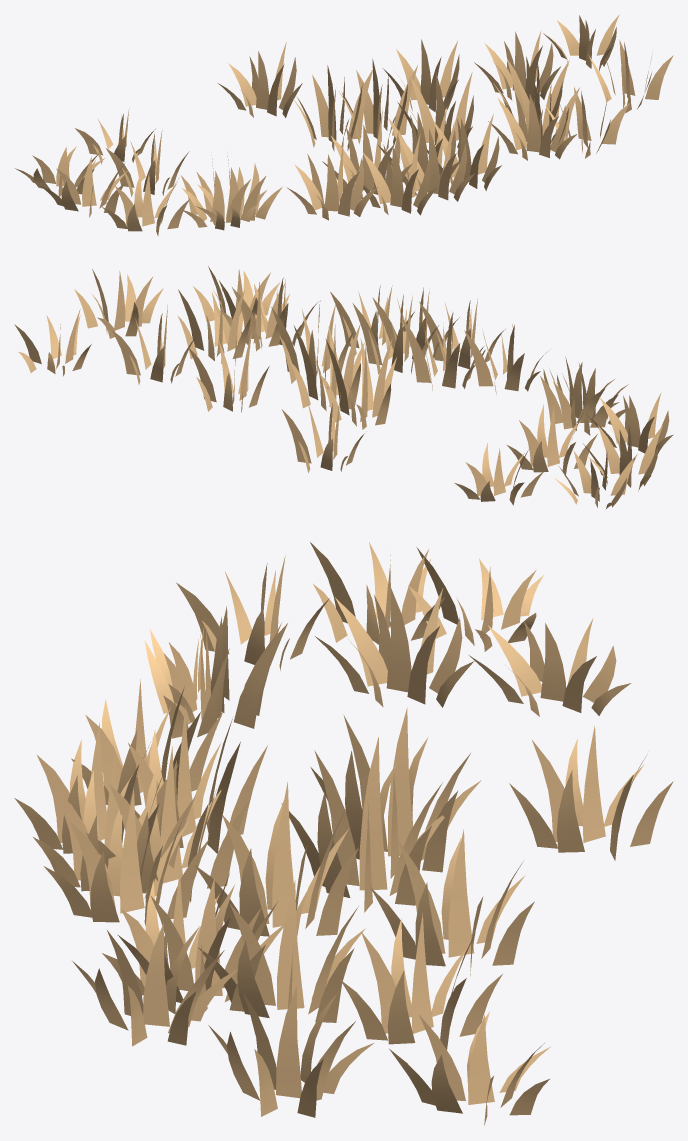
Rendered from Grass_5.fbx.
3 views of the same model, one above another, from view 1: azimuth 30°, elevation 25°; view 2: azimuth 150°, elevation 25°; view 3: azimuth 270°, elevation 25° (orthographic). The views are drawn at different scales.
Parts seen in each view (by area): view 1: Grass_5; view 2: Grass_5; view 3: Grass_5.
Part boxes in pixels (box(x1,y1,x2,y2)): Grass_5: box(15, 14, 673, 236); Grass_5: box(14, 266, 673, 508); Grass_5: box(14, 542, 673, 1125).
Bounding box in the file's own units: 124 × 16.13 × 63.91.
Materials: 1 (1 with a texture image).
